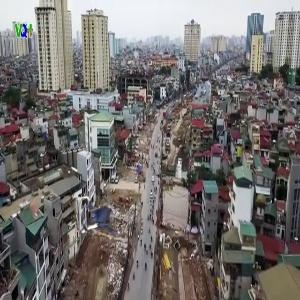drone: (69, 191, 125, 247)
